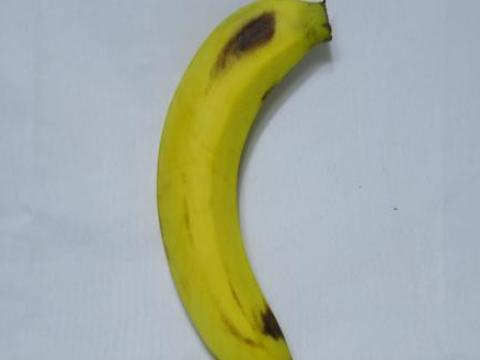freshripe: (136, 0, 358, 359)
